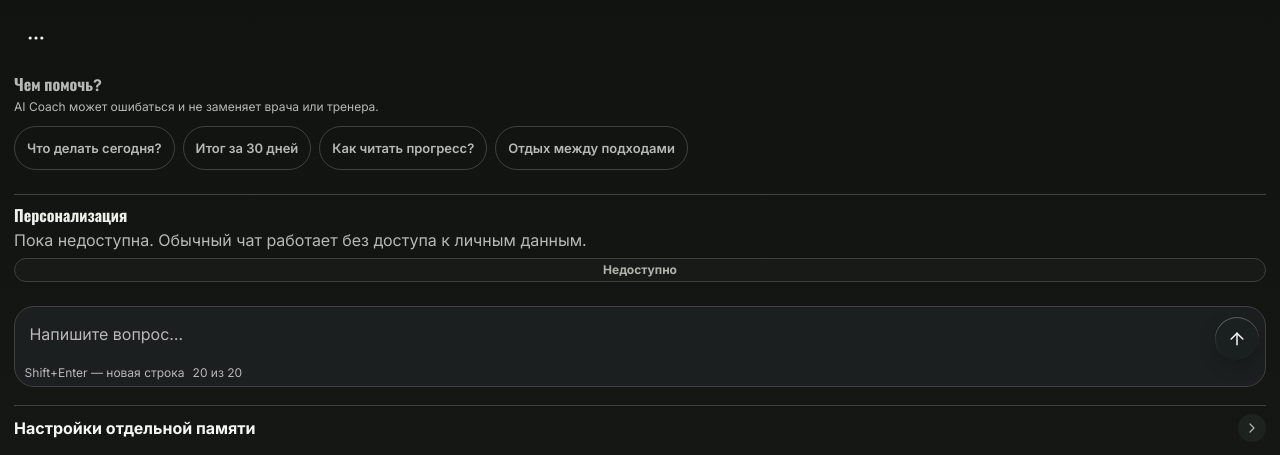
Test: AiCoachExperience › keeps history actions secondary and uses the stored conversation title
What coordinates should you click on to do the following:
click the button named "История"
I would click on:
 (36, 38)
Its box is left=14, top=16, right=58, bottom=60.
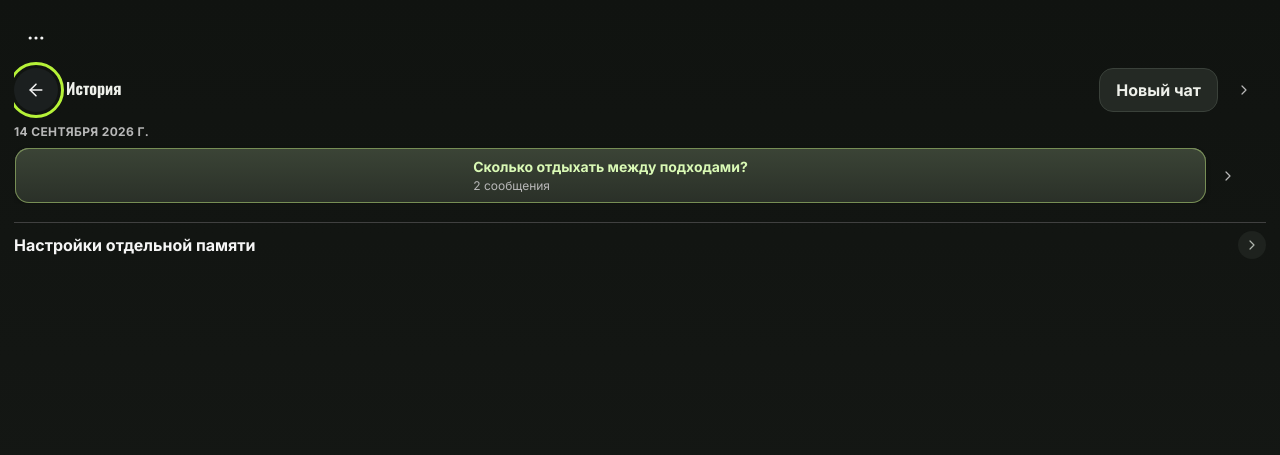
Result: the button "Новый чат" is shown at left=1099, top=68, right=1218, bottom=112
Result: the text "Сколько отдыхать между подходами?" is shown at left=473, top=158, right=748, bottom=175
Result: the heading named "Действия истории" is shown
What coordinates should you click on to do the following:
click the heading named "Действия истории"
I would click on:
 (1244, 90)
Its box is left=1222, top=68, right=1266, bottom=112.
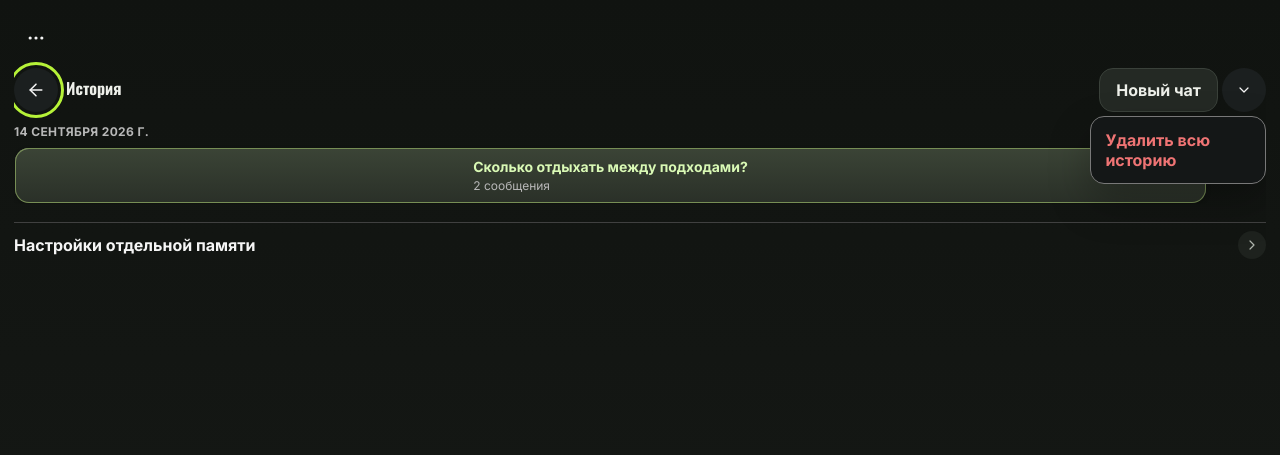
Result: the button with test id "ai-coach-history-clear" reads "Удалить всю историю" at left=1095, top=121, right=1261, bottom=179
